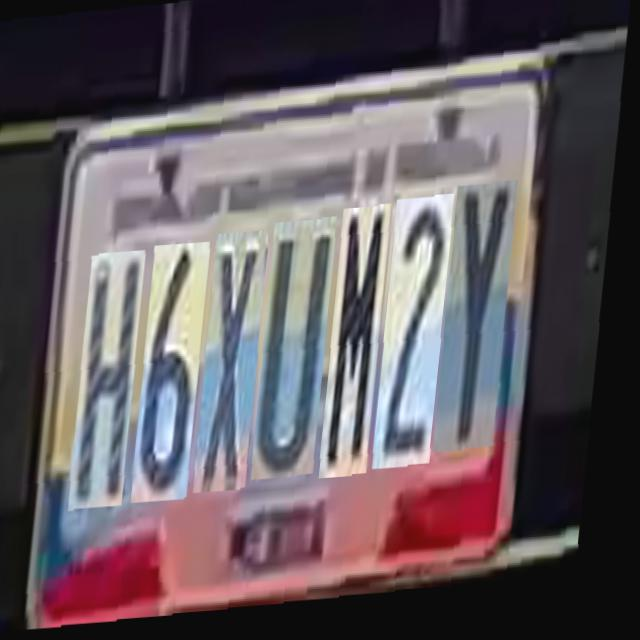2: (379, 198, 458, 470)
6: (140, 233, 217, 494)
H: (77, 238, 152, 498)
M: (326, 205, 396, 478)
U: (259, 215, 342, 476)
X: (201, 224, 274, 486)
Y: (440, 187, 522, 457)
